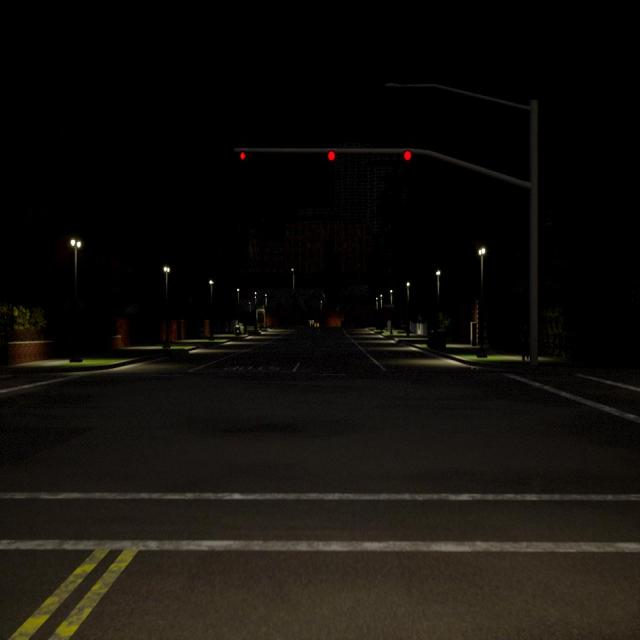traffic_light: (403, 150, 411, 161), (328, 151, 335, 162), (240, 152, 246, 160)
